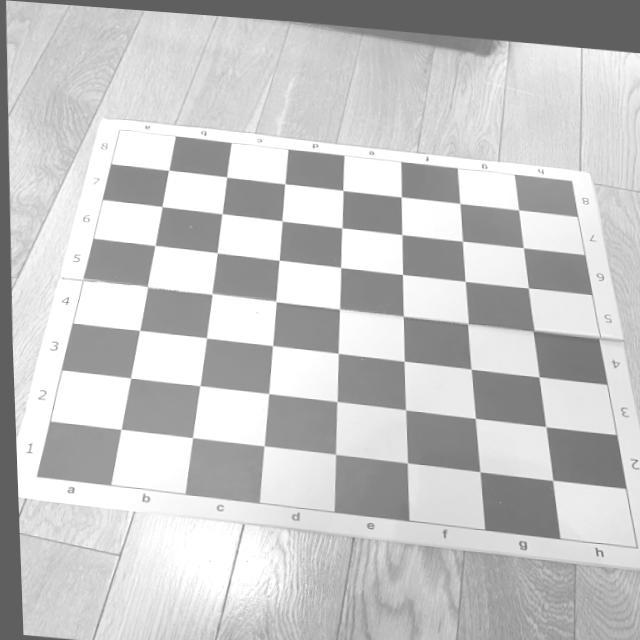chess-table-corners: (621, 530, 640, 544), (20, 470, 41, 482), (110, 124, 130, 136), (563, 168, 577, 180)
